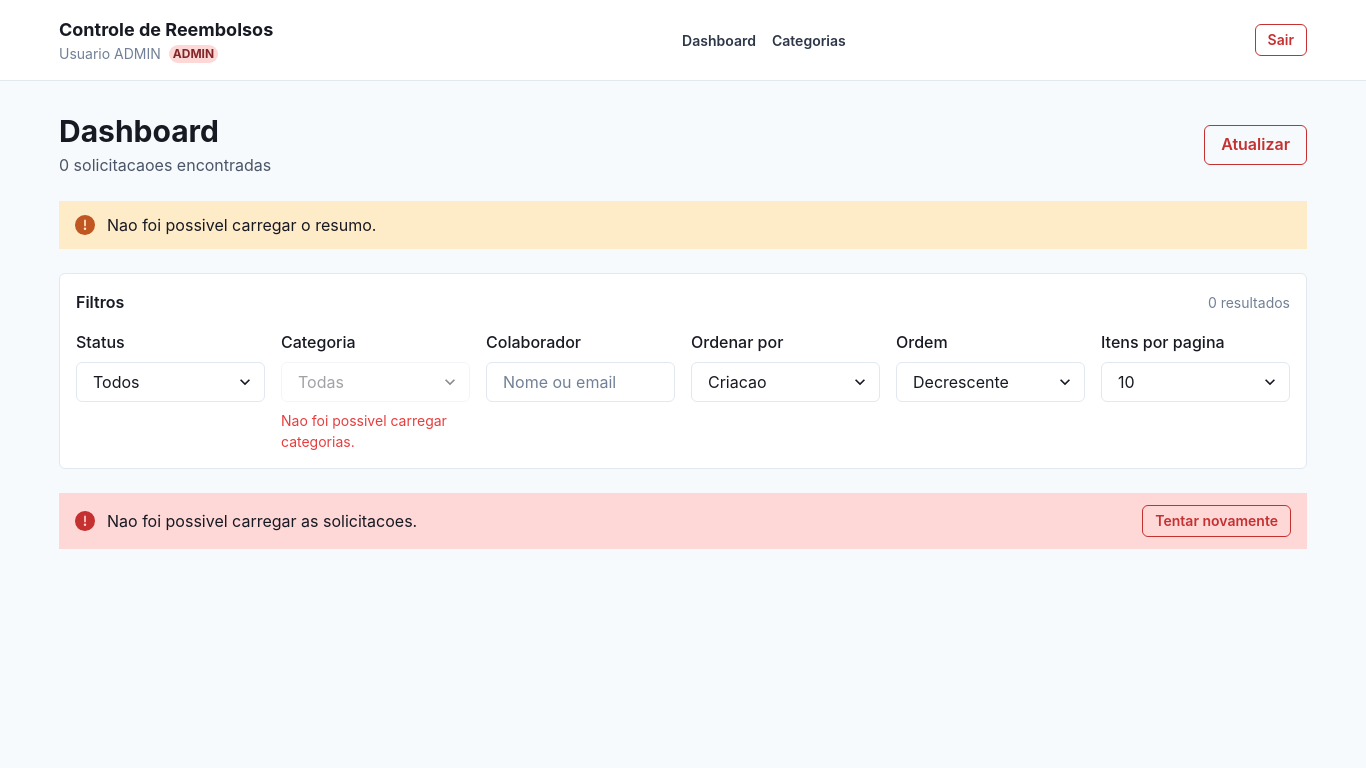
it: private routes › logs out through the API and returns to login
Click the button "Sair": (1281, 40) [1255,24,1307,56]
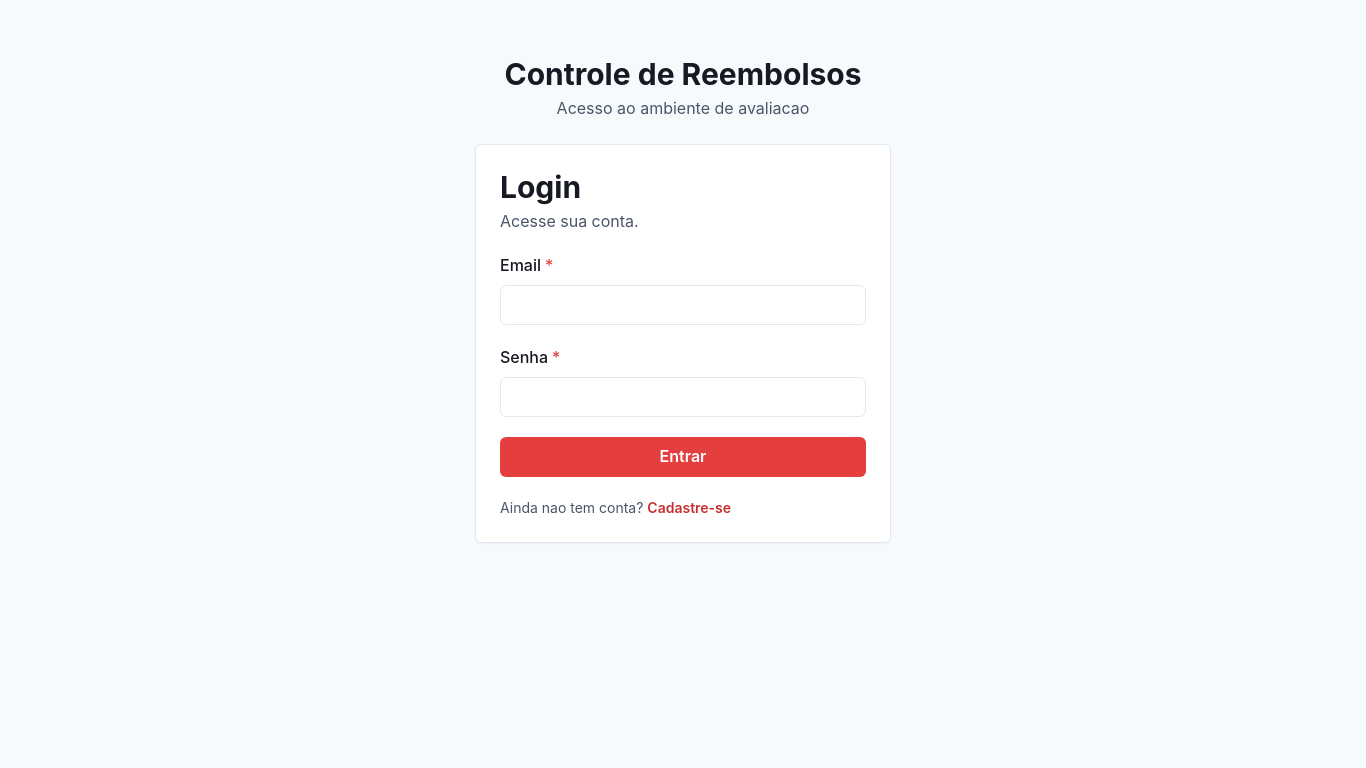
Check: the heading "Login" is shown, box [500,169,581,205]
